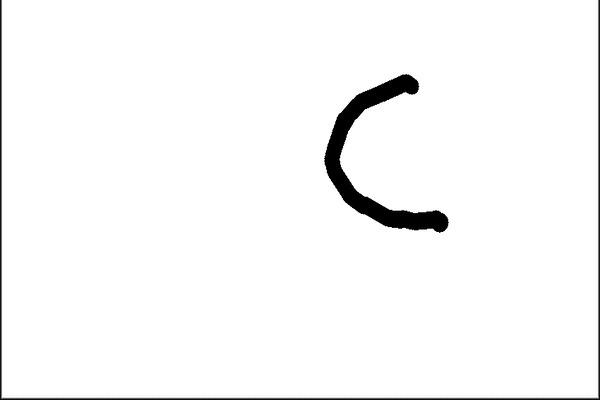C: (319, 64, 461, 237)
